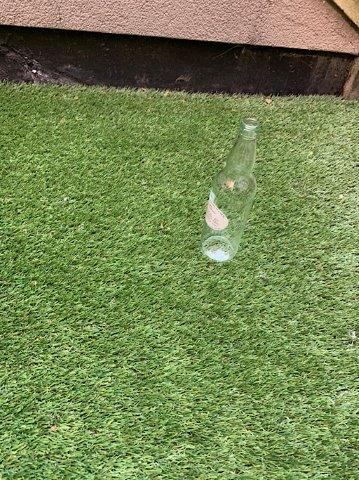botolkaca: (204, 117, 255, 259)
